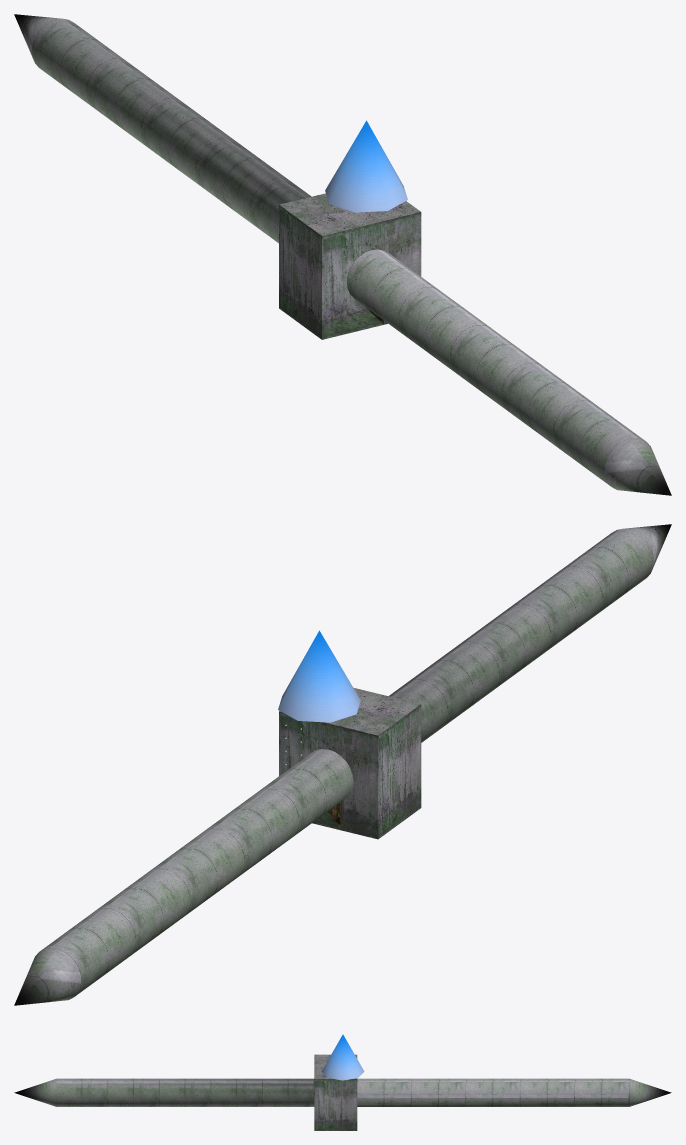
The model's file is ENVI_SewerageTunnel.obj.
The picture shows the model from 3 angles, top to bottom: view 1: azimuth 30°, elevation 25°; view 2: azimuth 150°, elevation 25°; view 3: azimuth 270°, elevation 25°; orthographic projection. The views are drawn at different scales.
Visible parts, largest first — view 1: SewerageTunnel; view 2: SewerageTunnel; view 3: SewerageTunnel.
Boxes of the visible parts, x1,y1,x2,y2 form: SewerageTunnel: (14,14,671,495); SewerageTunnel: (14,524,671,1005); SewerageTunnel: (14,1034,671,1130).
Size of what is drawn, in the model's own units: 445 by 697 by 4596.
10 materials, 8 textured.
